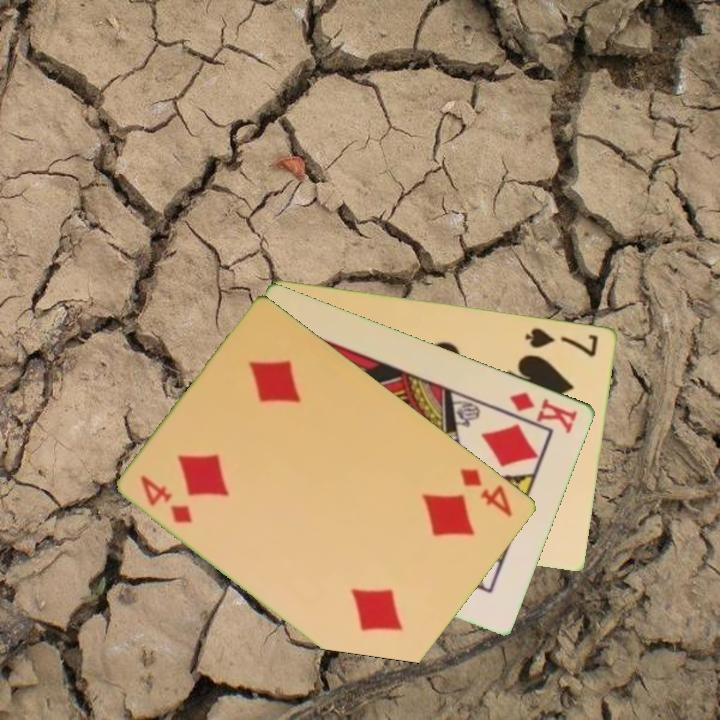4d: (457, 464, 516, 520), (137, 471, 197, 526)
7s: (522, 324, 602, 360)
Kd: (507, 387, 581, 436)
